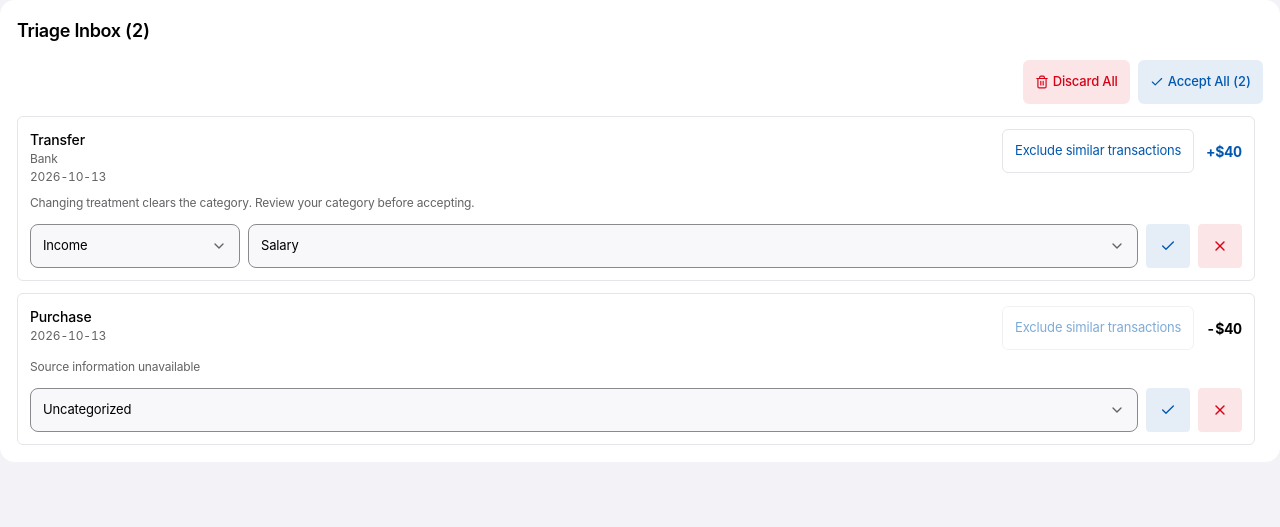
reviews incoming treatment and expense category before acceptance, with real undo and repeat import
Later steps or results of the test are not shown.
Click the button with aria-label "Treatment for Transfer".
click(135, 246)  # box [30,224,240,268]
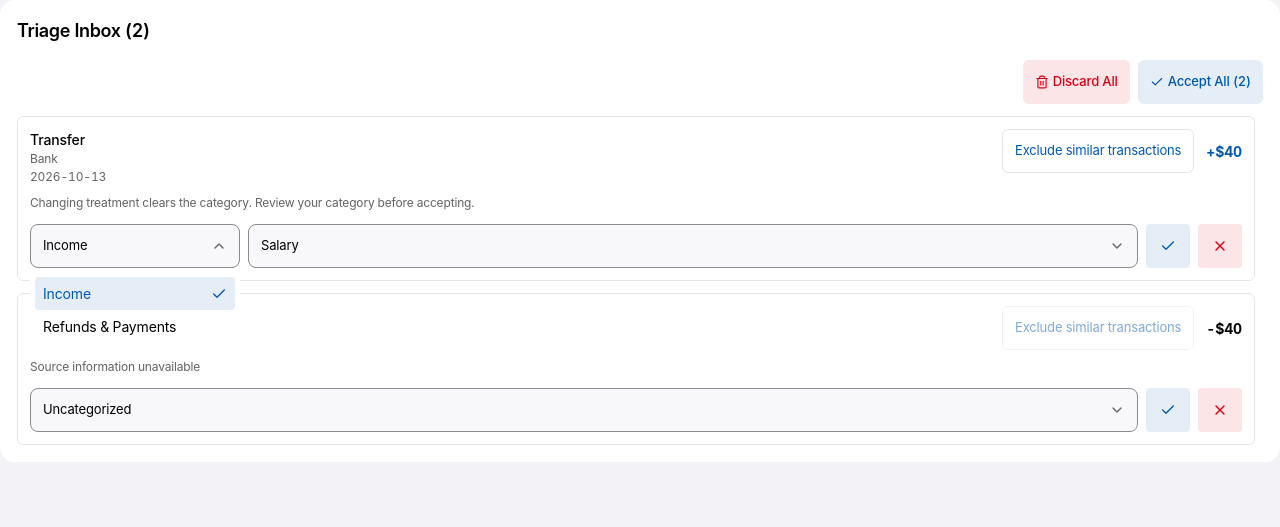
Click the option "Refunds & Payments".
click(135, 326)  # box [35,310,235,343]
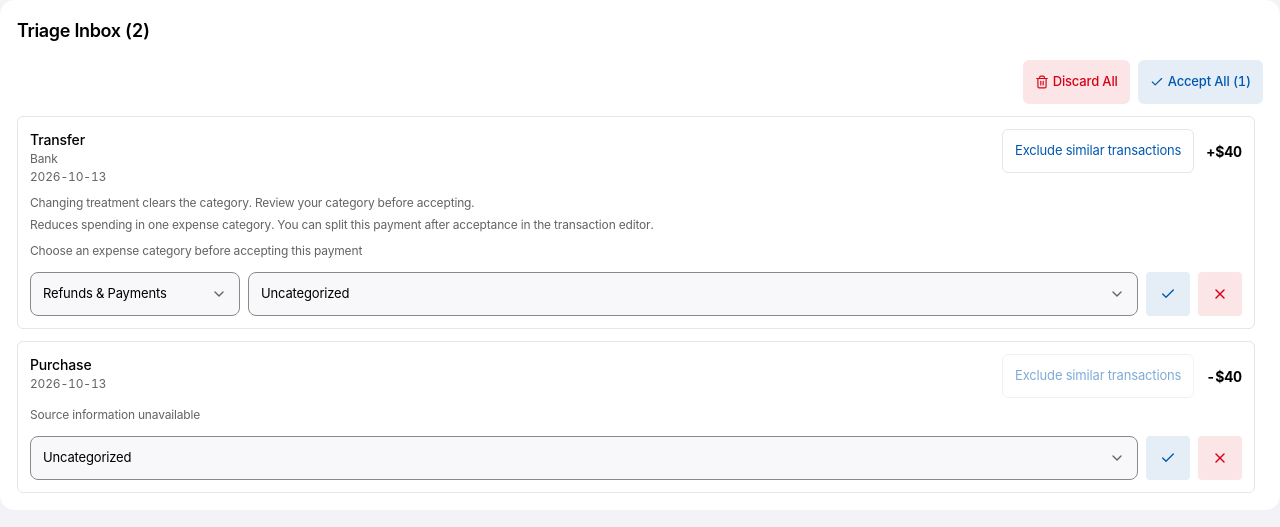
expect the text "Choose an expense category before accepting this payment" is shown: met, box [30,243,362,258]
expect the button named "Approve Transfer" is disabled: met, box [1146,272,1190,316]
expect the button "Accept All (1)" is shown: met, box [1138,60,1263,104]
